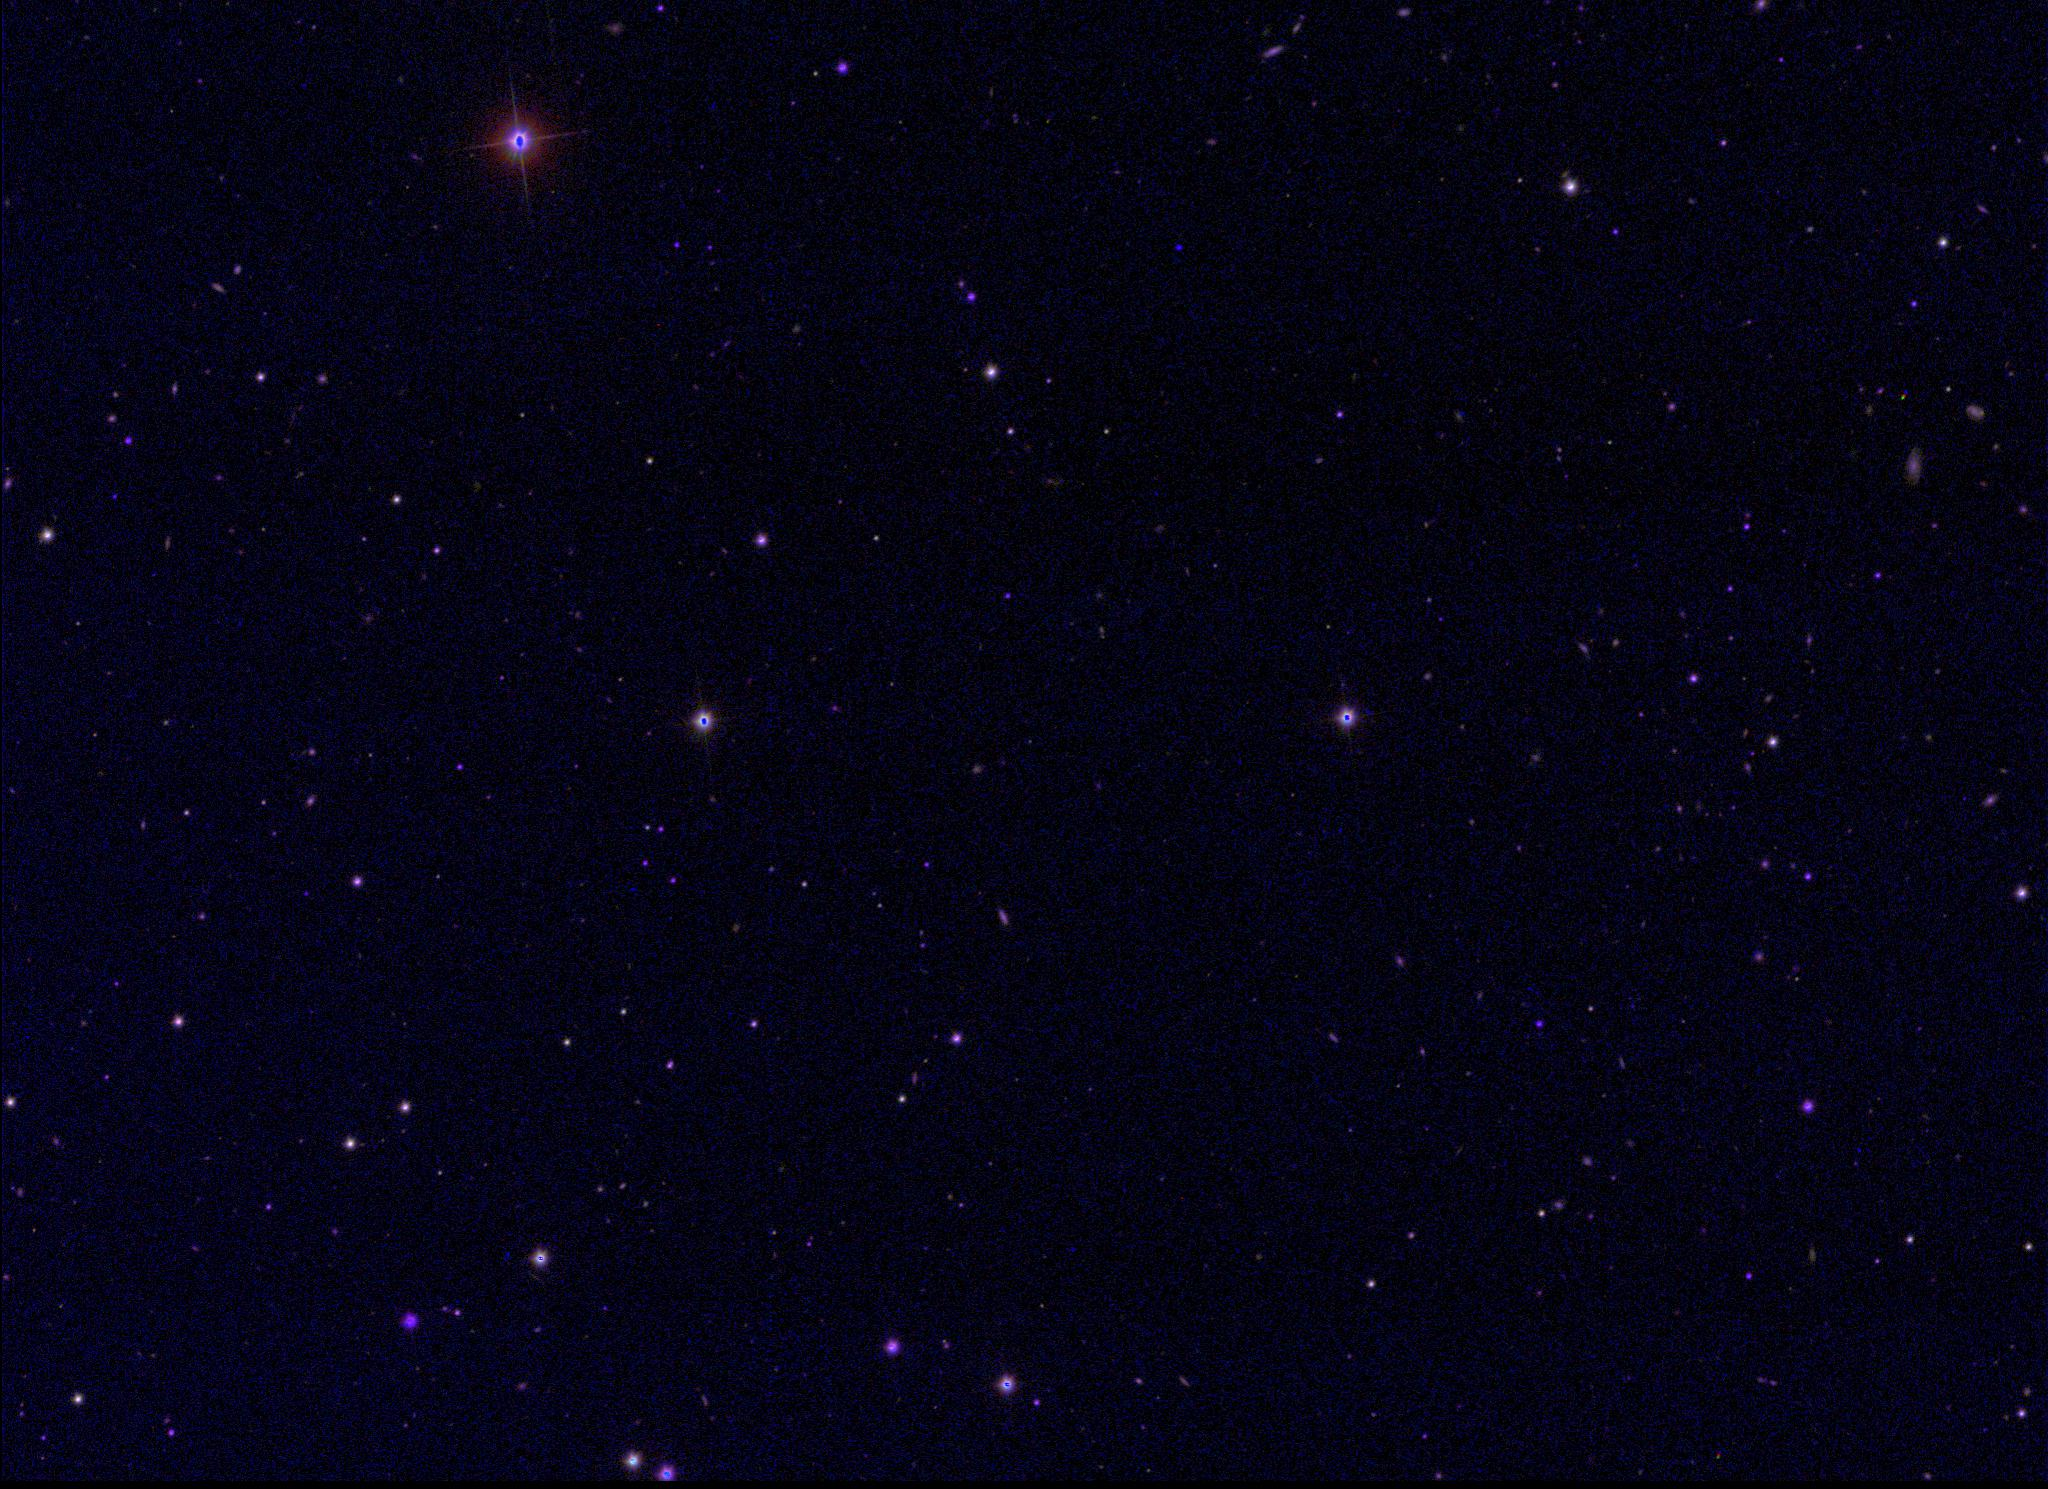L: (1172, 240, 1186, 255)
